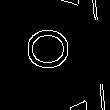O_E: (30, 34, 80, 76)
